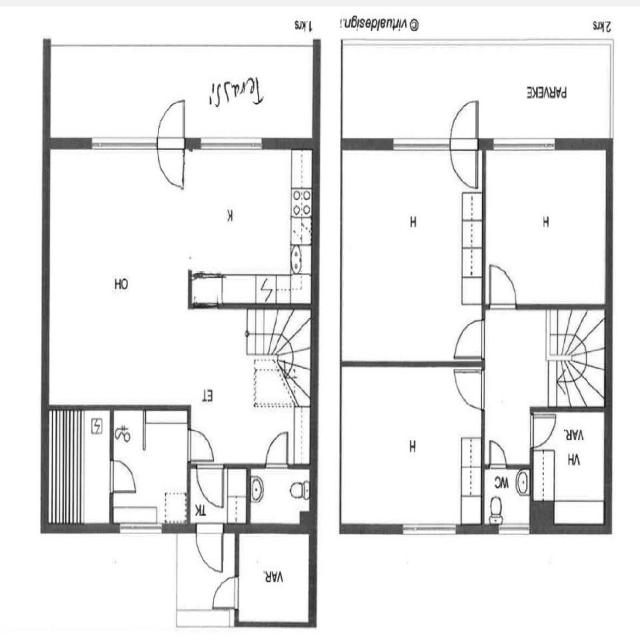door: (528, 404, 610, 528), (250, 457, 312, 526), (153, 95, 191, 198), (447, 96, 483, 195), (188, 424, 225, 511), (485, 258, 521, 312), (193, 516, 225, 576), (452, 360, 487, 413), (106, 454, 143, 500), (193, 463, 227, 510), (183, 423, 218, 468), (526, 407, 560, 453), (261, 425, 294, 472), (206, 573, 244, 613), (452, 316, 486, 360), (486, 436, 509, 471)
window: (86, 128, 160, 158), (194, 130, 268, 157), (394, 516, 462, 544), (488, 130, 560, 156), (386, 131, 454, 157), (114, 515, 169, 542), (494, 518, 534, 540)
zone: (46, 143, 185, 410), (339, 143, 485, 365), (338, 359, 484, 532), (185, 141, 313, 307), (481, 143, 610, 307), (110, 405, 190, 527), (532, 409, 609, 529), (43, 402, 112, 531), (237, 528, 314, 628), (247, 468, 314, 526), (482, 466, 533, 529)
